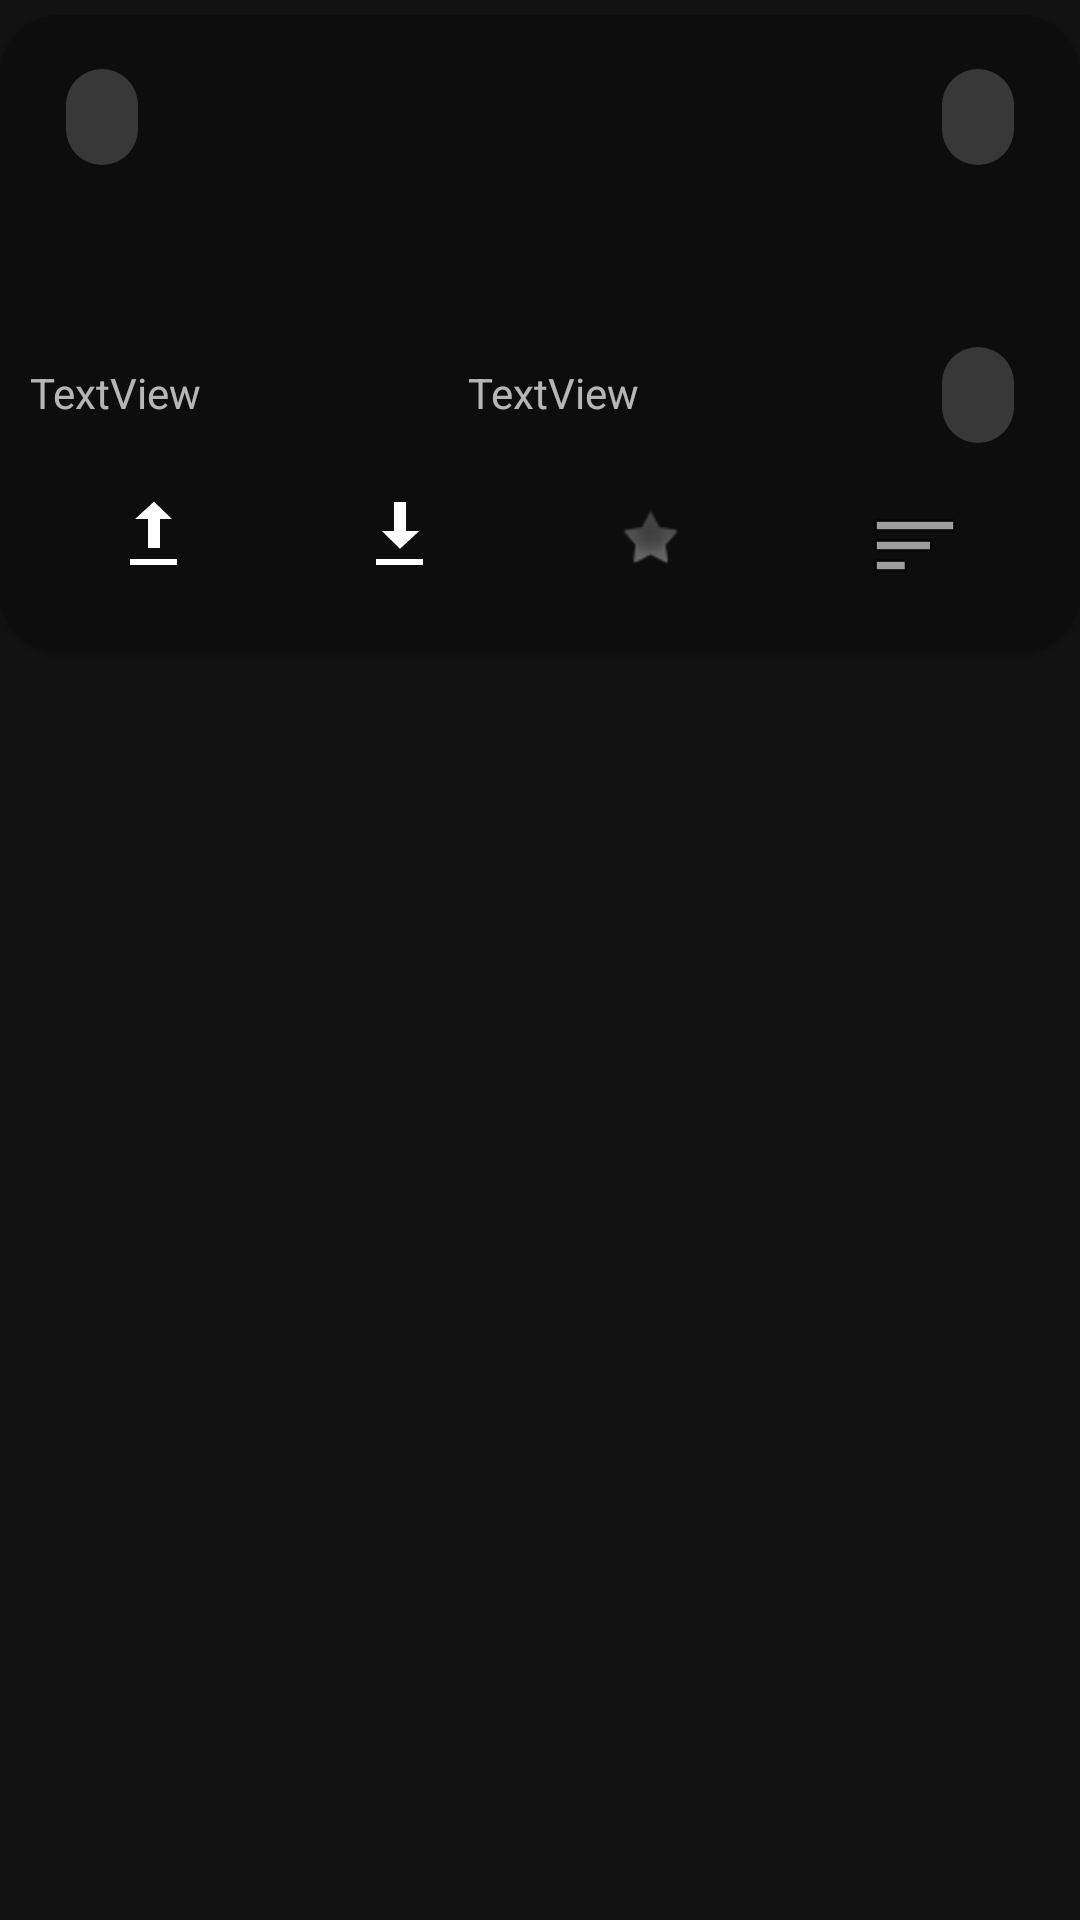

Locate icon controls on the screen. Image size 1080*1920, boxes as (x1, y1, x2, y2).
download: (376, 502, 423, 565)
sort by size: (877, 522, 953, 569)
star off: (625, 512, 677, 563)
upload done: (130, 502, 177, 565)
